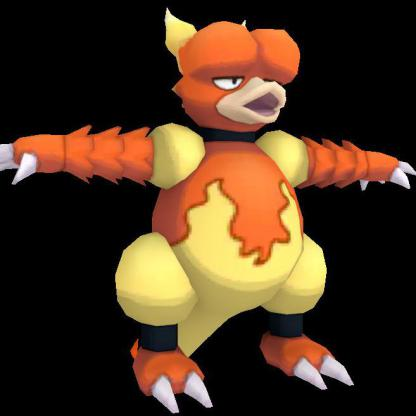Magmar: (7, 1, 416, 416)
